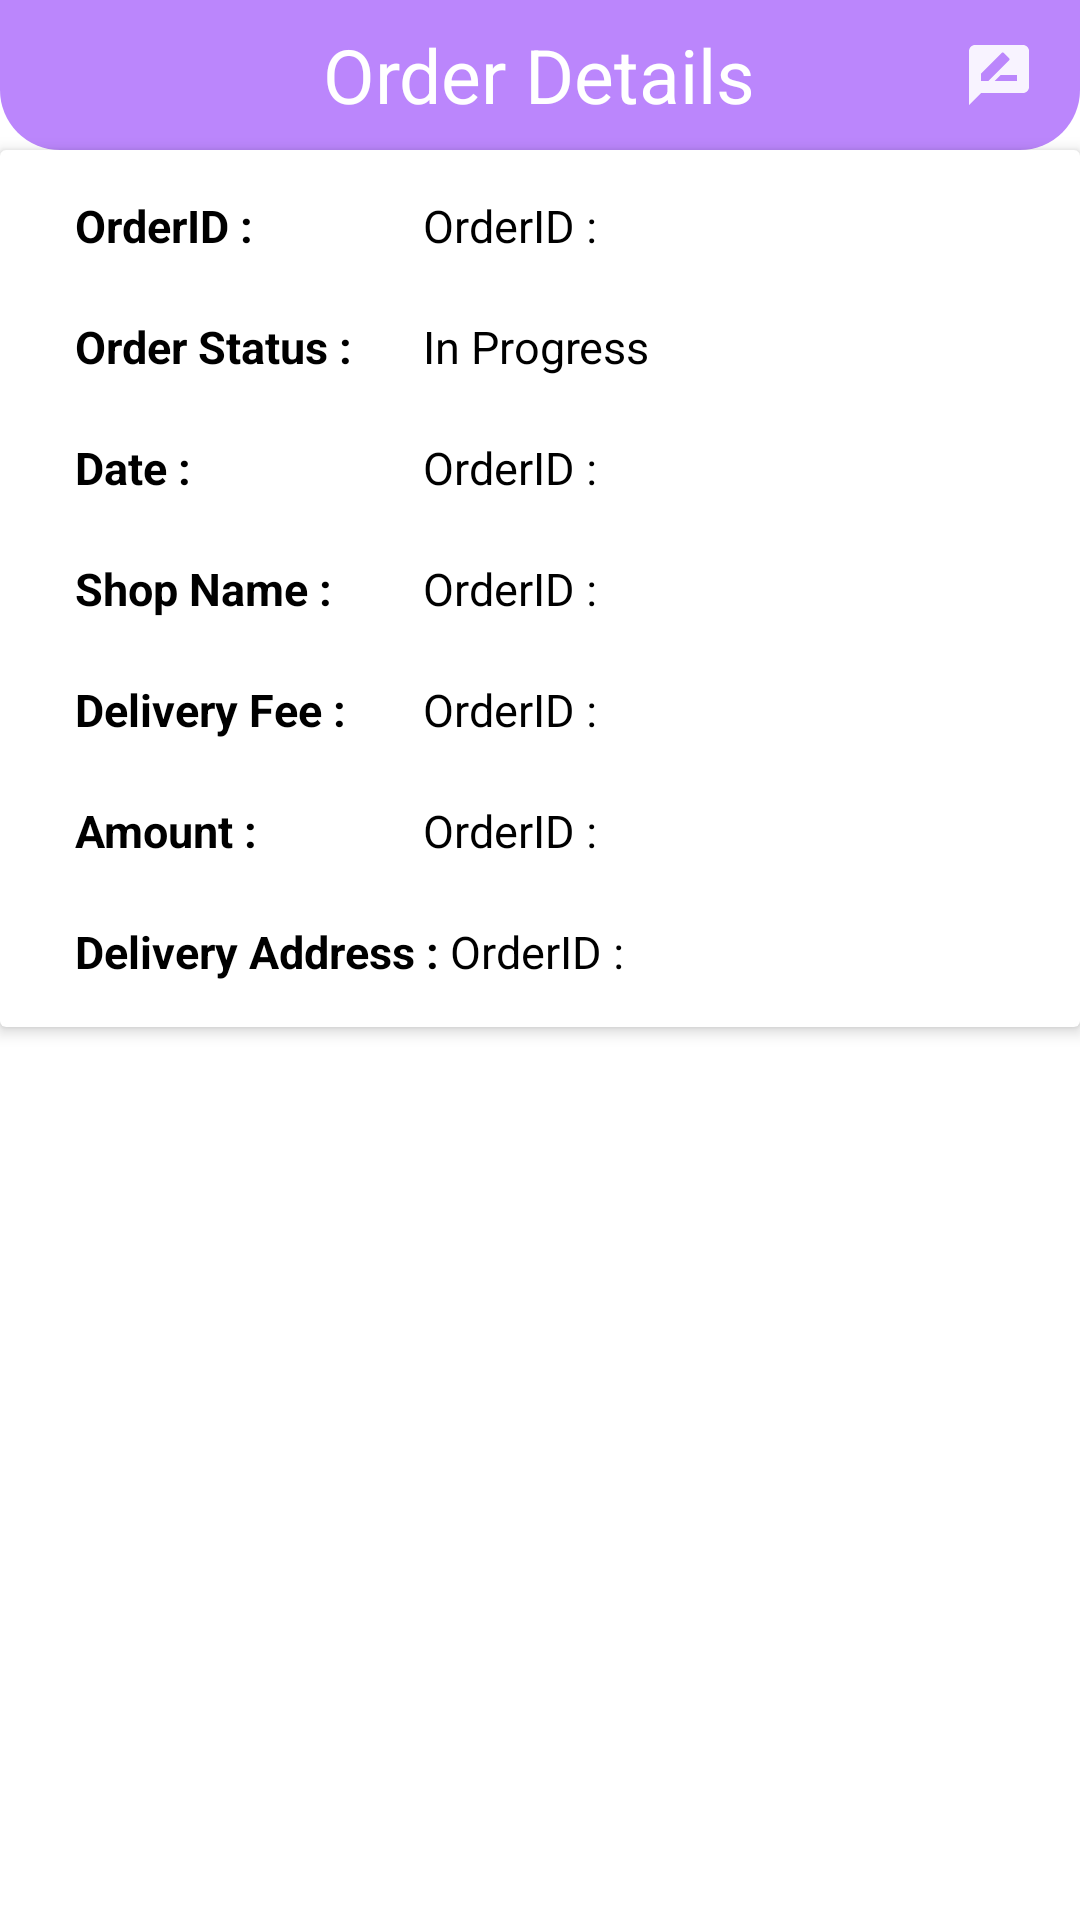

Screen size 1080*1920. Icon name, then its center in pixels as point (x, y):
rate review: point (999, 75)
